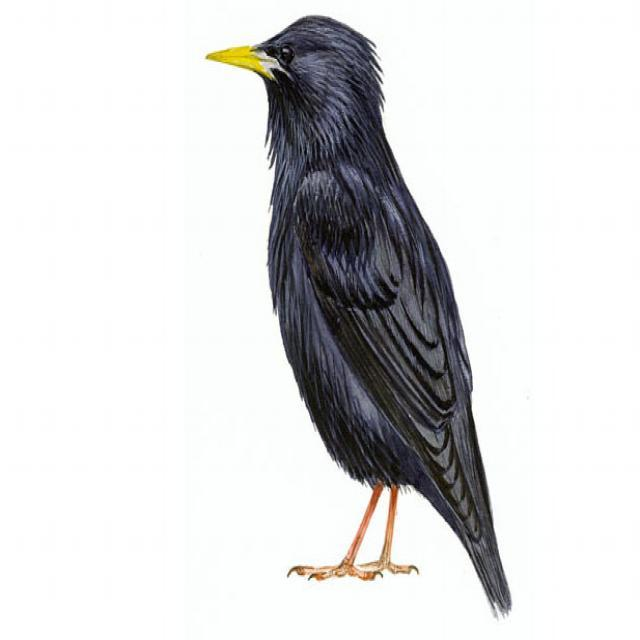bird: (109, 0, 552, 636)
